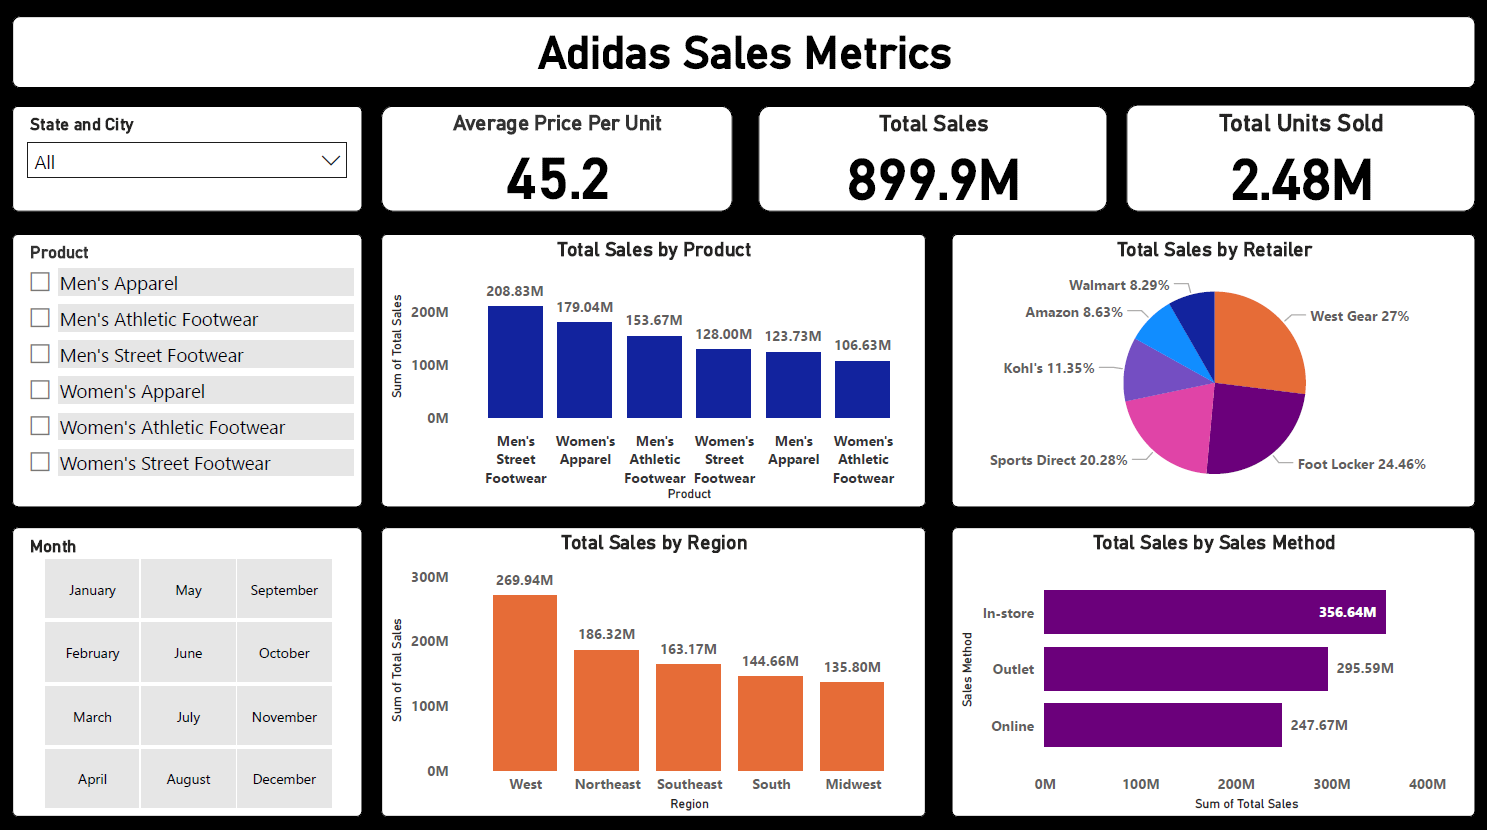

This screenshot's page, from the dashboard's own definition file:
{"tool":"powerbi","page":{"name":"Adidas Sales","canvas":[1280,720],"ordinal":0},"visuals":[{"type":"card","title":"Total Sales","fields":{"Values":["Sum(Adidas Sales Data.Total Sales)"]},"box":[654.5,89.8,299.9,91.6],"z":0},{"type":"textbox","box":[12.6,12.6,1257.8,62.8],"z":1000},{"type":"card","title":"Average Price Per Unit","fields":{"Values":["Avg(Adidas Sales Data.Price per Unit)"]},"box":[330.4,89.8,301.6,91.6],"z":2000},{"type":"card","title":"Total Units Sold","fields":{"Values":["Sum(Adidas Sales Data.Units Sold)"]},"box":[969.6,88.9,300.7,92.5],"z":3000},{"type":"columnChart","title":"Total Sales by Region","fields":{"Y":["Sum(Adidas Sales Data.Total Sales)"],"Category":["Adidas Sales Data.Region"]},"box":[330.4,452.5,467.7,248.7],"z":4000},{"type":"columnChart","title":"Total Sales by Product","fields":{"Y":["Sum(Adidas Sales Data.Total Sales)"],"Category":["Adidas Sales Data.Product"]},"box":[330.4,200.2,467.7,235.2],"z":5000},{"type":"clusteredBarChart","title":"Total Sales by Sales Method","fields":{"Category":["Adidas Sales Data.Sales Method"],"Y":["Sum(Adidas Sales Data.Total Sales)"]},"box":[819.7,452.5,450.7,248.7],"z":6000},{"type":"pieChart","title":"Total Sales by Retailer","fields":{"Category":["Adidas Sales Data.Retailer"],"Y":["Sum(Adidas Sales Data.Total Sales)"]},"box":[819.7,200.2,450.7,235.2],"z":7000},{"type":"slicer","fields":{"Values":["Adidas Sales Data.Product"]},"box":[12.6,200.2,301.6,235.2],"z":8000},{"type":"slicer","title":"State and City","fields":{"Values":["Adidas Sales Data.State","Adidas Sales Data.City"]},"box":[12.6,89.8,301.6,91.6],"z":9000},{"type":"slicer","fields":{"Values":["Adidas Sales Data.Invoice Date.Variation.Date Hierarchy.Month"]},"box":[12.6,452.5,301.6,248.7],"z":10000}]}

Visuals, with their boxes in screenshot pixels (x1, y1, x2, y2), scaled from the page's 1280x720 canvas onto the 1487x830 screenshot:
"Total Sales" card: box(760, 104, 1109, 209)
textbox: box(15, 15, 1476, 87)
"Average Price Per Unit" card: box(384, 104, 734, 209)
"Total Units Sold" card: box(1126, 102, 1476, 209)
"Total Sales by Region" columnChart: box(384, 522, 927, 808)
"Total Sales by Product" columnChart: box(384, 231, 927, 502)
"Total Sales by Sales Method" clusteredBarChart: box(952, 522, 1476, 808)
"Total Sales by Retailer" pieChart: box(952, 231, 1476, 502)
slicer - Adidas Sales Data.Product: box(15, 231, 365, 502)
"State and City" slicer: box(15, 104, 365, 209)
slicer - Adidas Sales Data.Invoice Date.Variation.Date Hierarchy.Month: box(15, 522, 365, 808)
